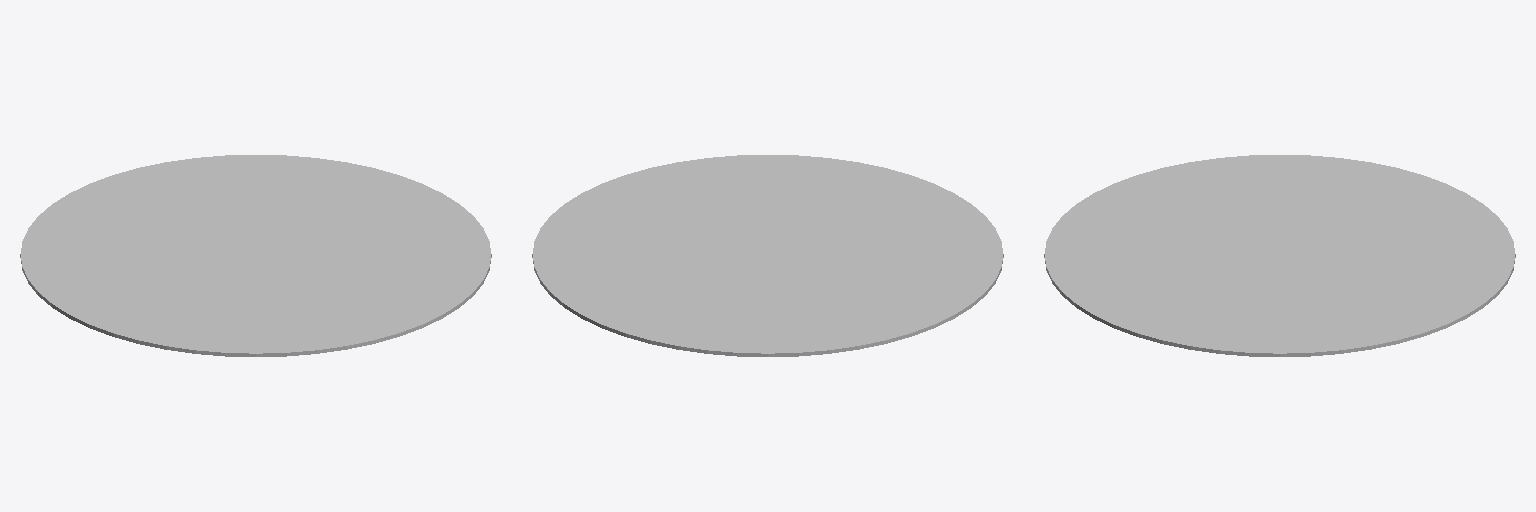
Rendered from SpaceStationWindowTop.obj.
3 renders of one model, left to right at view 1: azimuth 30°, elevation 25°; view 2: azimuth 150°, elevation 25°; view 3: azimuth 270°, elevation 25°, orthographic.
Parts seen in each view (by area): view 1: Torus.001_Torus.003; view 2: Torus.001_Torus.003; view 3: Torus.001_Torus.003.
Boxes of the visible parts, x1=… form: Torus.001_Torus.003: x1=20, y1=155, x2=491, y2=356; Torus.001_Torus.003: x1=532, y1=155, x2=1003, y2=356; Torus.001_Torus.003: x1=1044, y1=155, x2=1515, y2=356.
Bounding box in the file's own units: 2.35 × 0.0202 × 2.35.